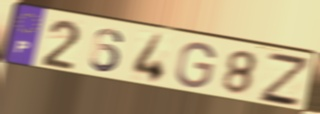2: (41, 17, 83, 73)
4: (130, 32, 167, 86)
6: (89, 28, 125, 74)
8: (221, 49, 260, 96)
G: (173, 41, 218, 90)
Z: (257, 49, 309, 109)
